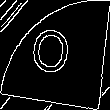O_S: (32, 26, 78, 84)
